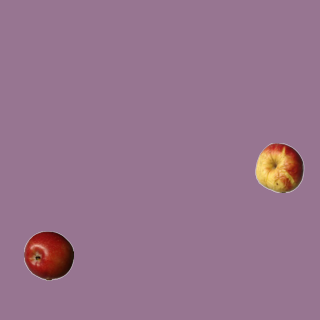Apple Braeburn: (23, 230, 73, 280)
Apple Red Yellow 1: (254, 142, 304, 192)
